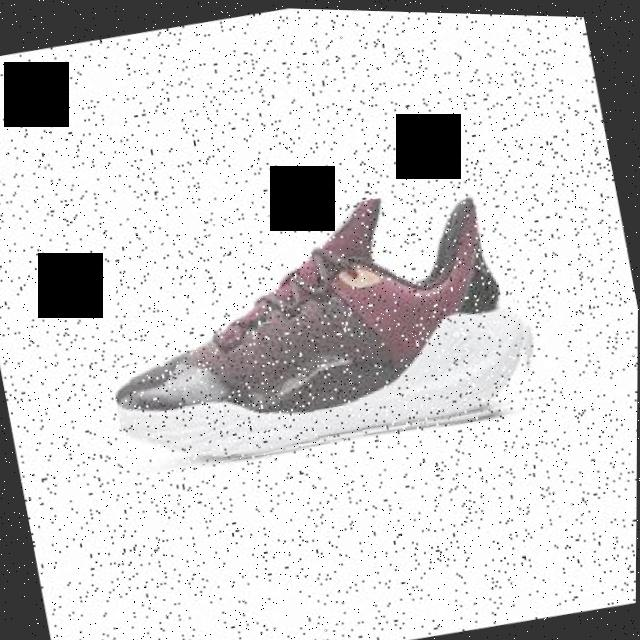shoe: (87, 165, 548, 488)
